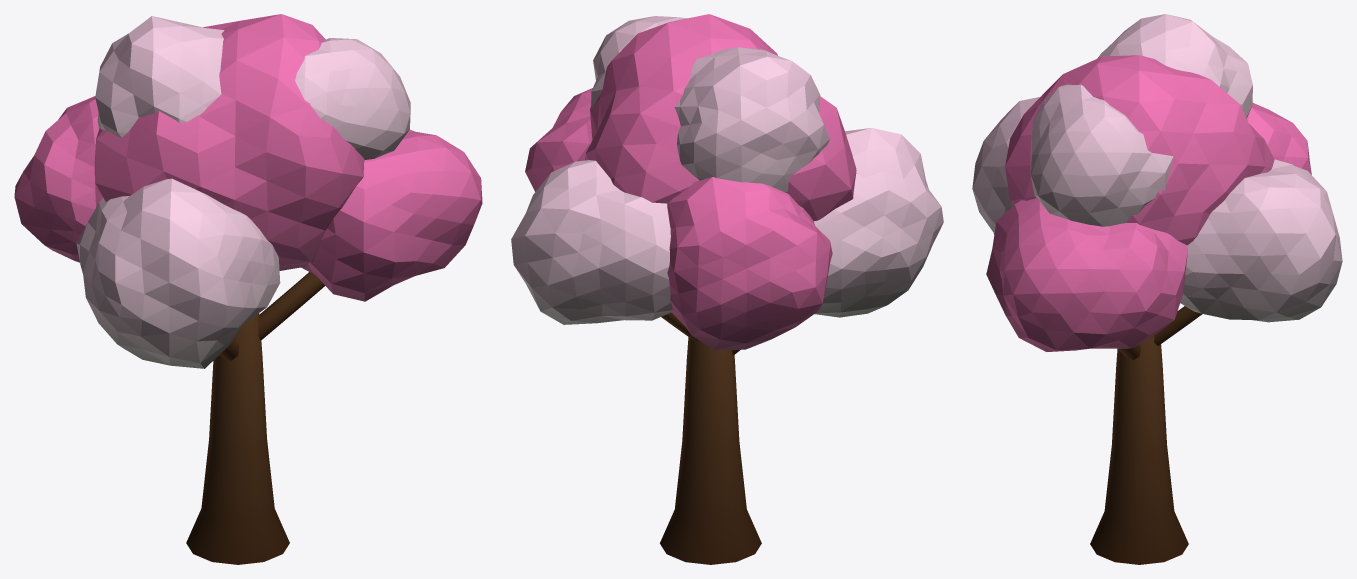
The model's file is env-tree-blossom.glb.
3 views of the same model, side by side, from view 1: azimuth 30°, elevation 25°; view 2: azimuth 150°, elevation 25°; view 3: azimuth 270°, elevation 25° (orthographic). The views are drawn at different scales.
Visible parts, largest first — view 1: EnvTreeBlossom; view 2: EnvTreeBlossom; view 3: EnvTreeBlossom.
Boxes of the visible parts, box(x1,y1,x2,y2) form: EnvTreeBlossom: box(14, 14, 482, 564); EnvTreeBlossom: box(511, 14, 943, 564); EnvTreeBlossom: box(972, 14, 1342, 564).
Bounding box in the file's own units: 2.81 × 3.77 × 2.55.
